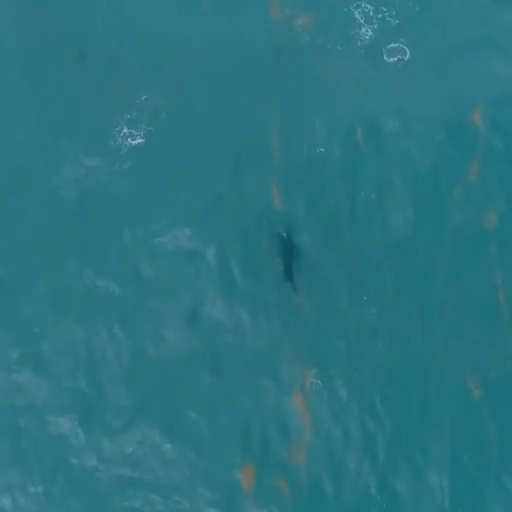shark: (270, 225, 304, 296)
